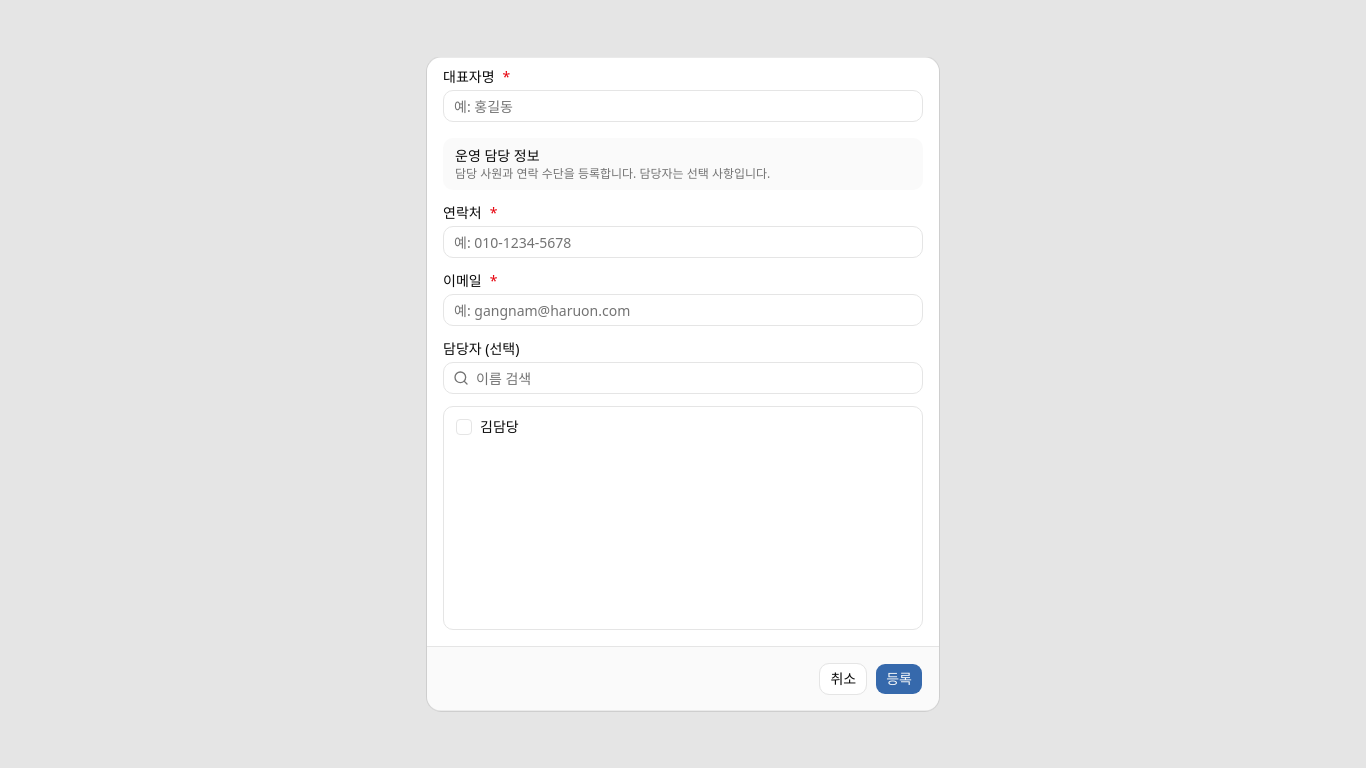
it: FranchiseCreateDialog - 클라 사전검증 › 빈 값 제출 시 필수 6필드의 zod 메시지가 role=alert로 노출되고 POST 요청이 발생하지 않는다
The width and height of the screenshot is (1366, 768).
(page scrolled)
Click the button "등록". click: (899, 679)
box: top-left (875, 663), bottom-right (923, 695)
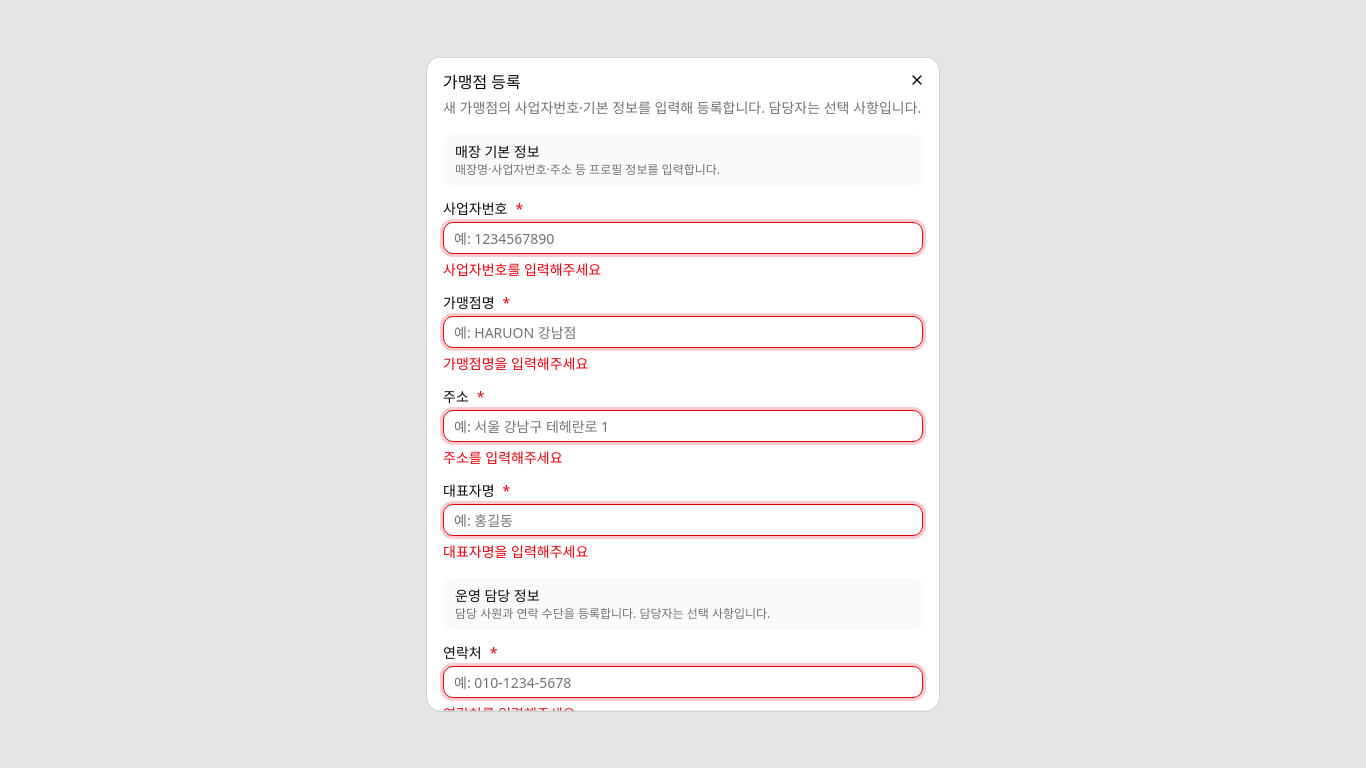
Now the text "사업자번호를 입력해주세요" is shown, box top-left (443, 260), bottom-right (601, 279)
